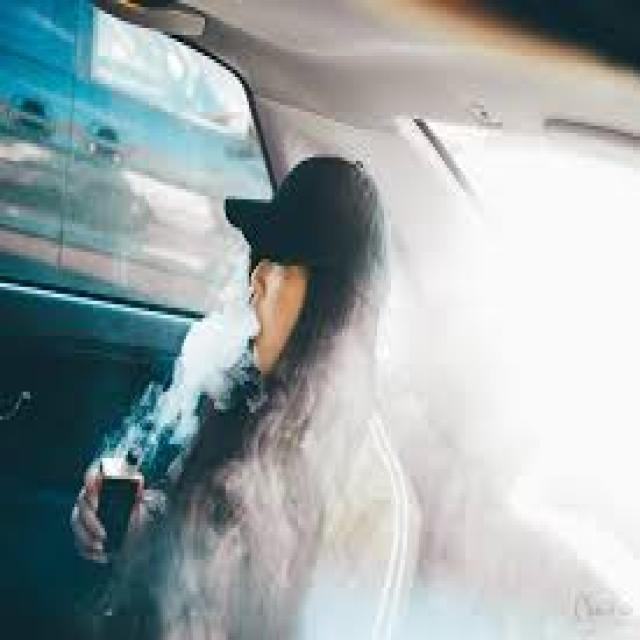Smoke: (100, 278, 262, 480)
